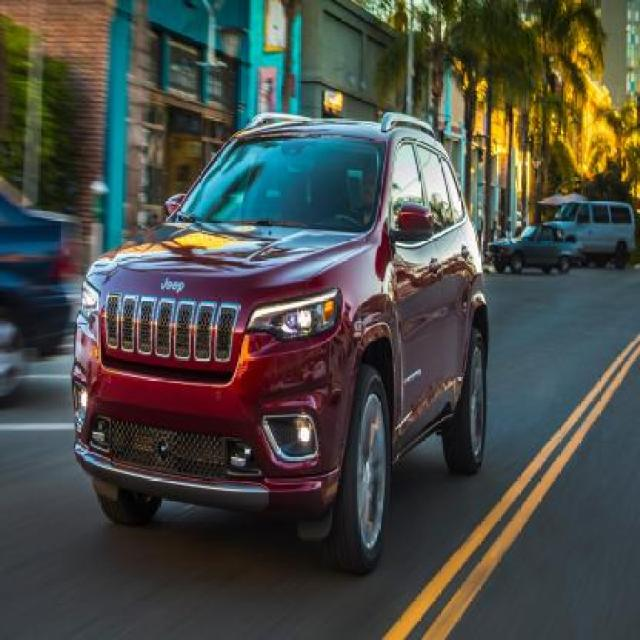Jeep: (72, 114, 490, 566)
